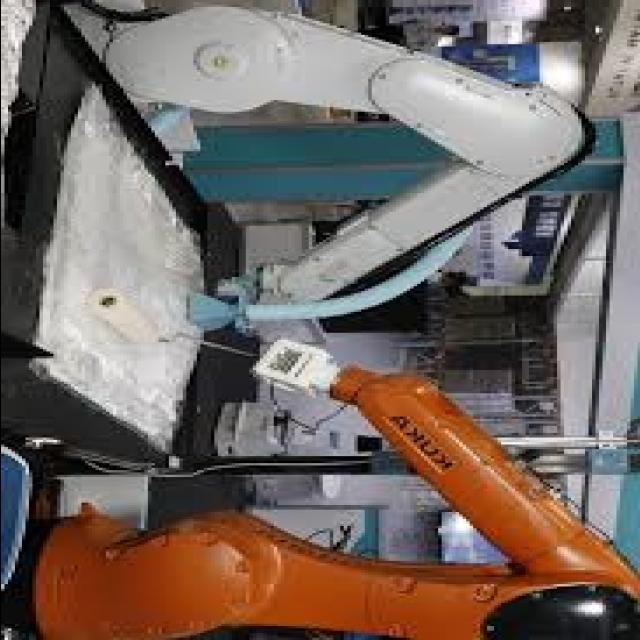Robotic-arm: (0, 342, 640, 640), (0, 0, 606, 314)
